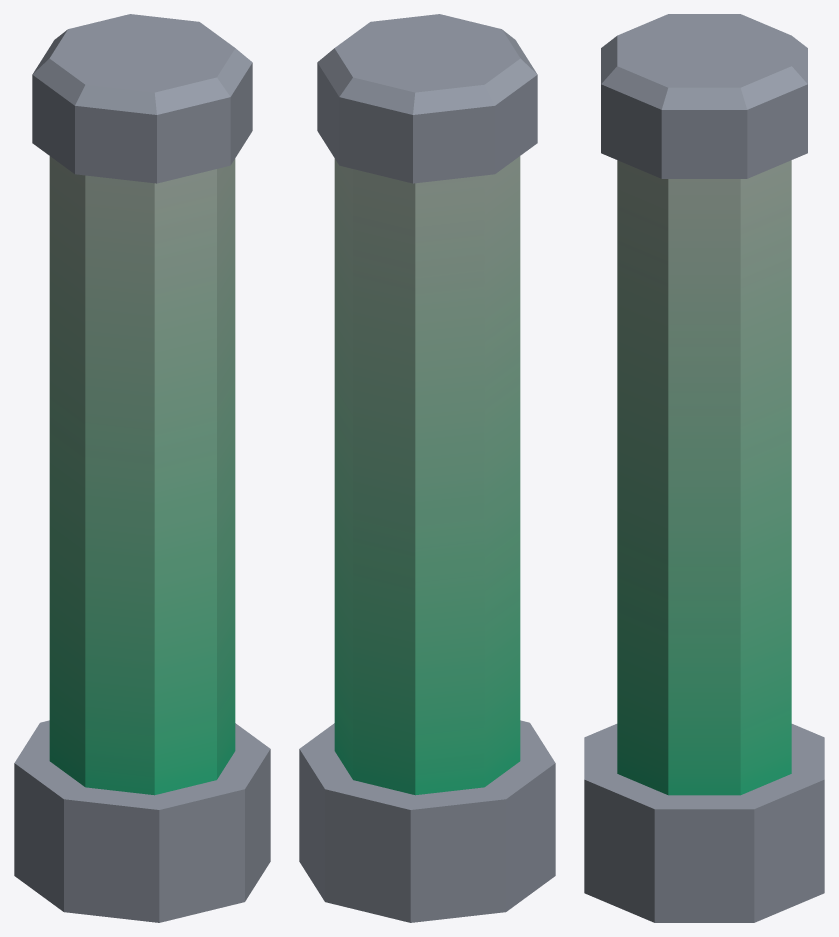
File: SM_Props_Laboratory_10.fbx
3 views of the same model, side by side, from view 1: azimuth 30°, elevation 25°; view 2: azimuth 150°, elevation 25°; view 3: azimuth 270°, elevation 25° (orthographic).
Parts seen in each view (by area): view 1: SM_Props_Laboratory_10; view 2: SM_Props_Laboratory_10; view 3: SM_Props_Laboratory_10.
Boxes of the visible parts, x1,y1,x2,y2 form: SM_Props_Laboratory_10: (14, 14, 270, 922); SM_Props_Laboratory_10: (299, 14, 555, 922); SM_Props_Laboratory_10: (584, 14, 824, 922).
Bounding box in the file's own units: 0.0383 × 0.1443 × 0.0383.
